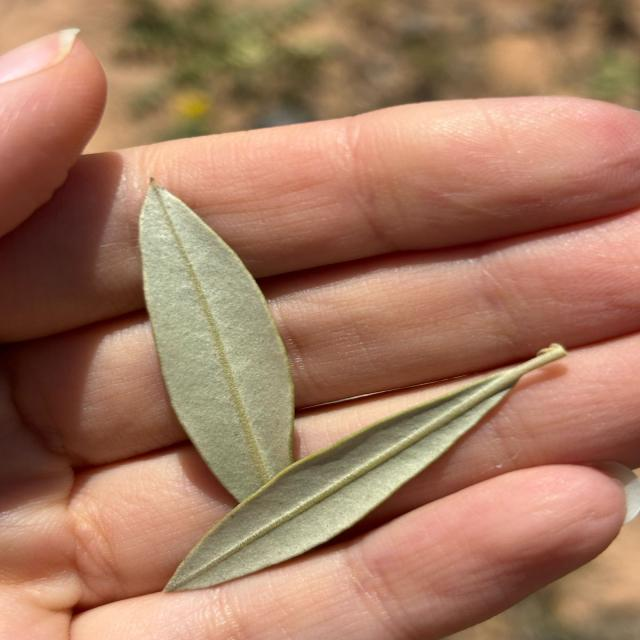Healthy: (164, 344, 566, 592), (139, 181, 294, 502)
